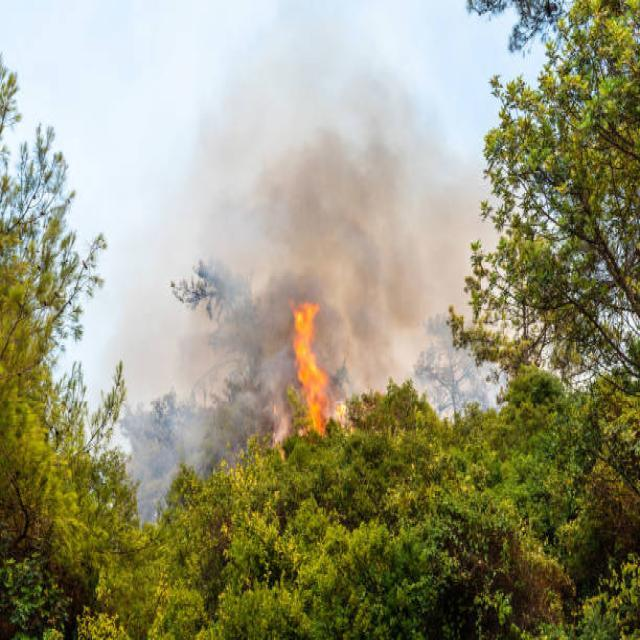Fire: (286, 298, 332, 434)
Smoke: (0, 0, 504, 511)
